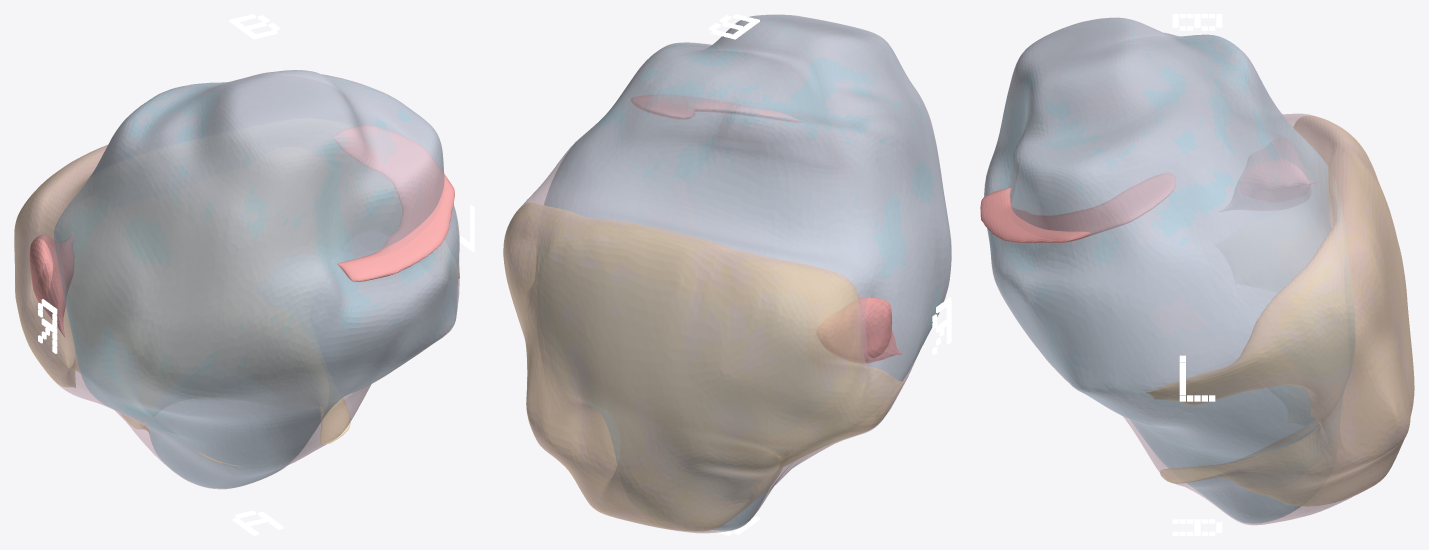
3 renders of one model, left to right at view 1: azimuth 30°, elevation 25°; view 2: azimuth 150°, elevation 25°; view 3: azimuth 270°, elevation 25°, orthographic.
Parts seen in each view (by area): view 1: prostate_gland, transition_zone, lesion_01, peripheral_zone, pv_ar_marker_B, pv_ar_marker_R, pv_ar_marker_A; view 2: prostate_gland, peripheral_zone, transition_zone, lesion_01, pv_ar_marker_B, pv_ar_marker_R; view 3: prostate_gland, transition_zone, peripheral_zone, lesion_01, pv_ar_marker_B, pv_ar_marker_A, pv_ar_marker_L.
Part boxes in pixels (x1,y1,x2,y2): prostate_gland: [14, 70, 459, 489]; transition_zone: [54, 70, 458, 488]; lesion_01: [29, 125, 454, 337]; peripheral_zone: [14, 145, 459, 466]; pv_ar_marker_B: [229, 14, 280, 39]; pv_ar_marker_R: [38, 299, 57, 353]; pv_ar_marker_A: [232, 510, 283, 535]; prostate_gland: [503, 14, 951, 533]; peripheral_zone: [503, 202, 904, 531]; transition_zone: [544, 15, 951, 530]; lesion_01: [631, 94, 903, 363]; pv_ar_marker_B: [709, 14, 759, 39]; pv_ar_marker_R: [932, 297, 951, 354]; prostate_gland: [984, 17, 1413, 525]; transition_zone: [984, 18, 1355, 523]; peripheral_zone: [1146, 116, 1414, 506]; lesion_01: [980, 139, 1317, 243]; pv_ar_marker_B: [1172, 14, 1222, 30]; pv_ar_marker_A: [1172, 519, 1222, 535]; pv_ar_marker_L: [1179, 355, 1215, 401].
Size of the model in its own units: 0.0564 by 0.0641 by 0.0497.
